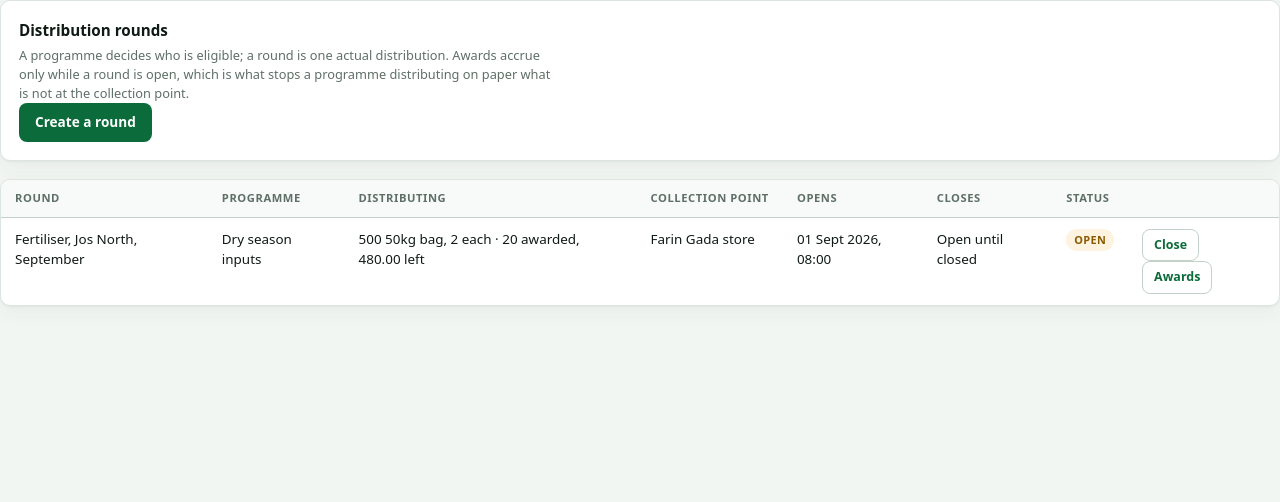
Test: the awards drawer › lists the beneficiaries when it can be read
Check: the text "Fertiliser, Jos North, September" is shown, box [1,217,208,305]
Click the button "Awards" at (1177, 278), box [1142,261,1212,294]
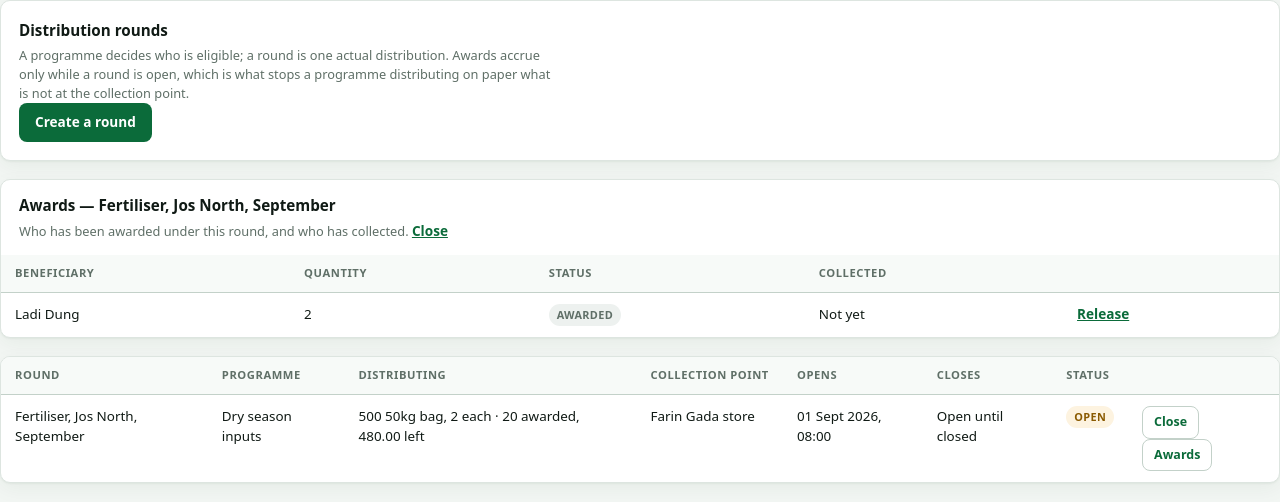
Check: the text "Ladi Dung" is shown, box [1,292,290,337]
